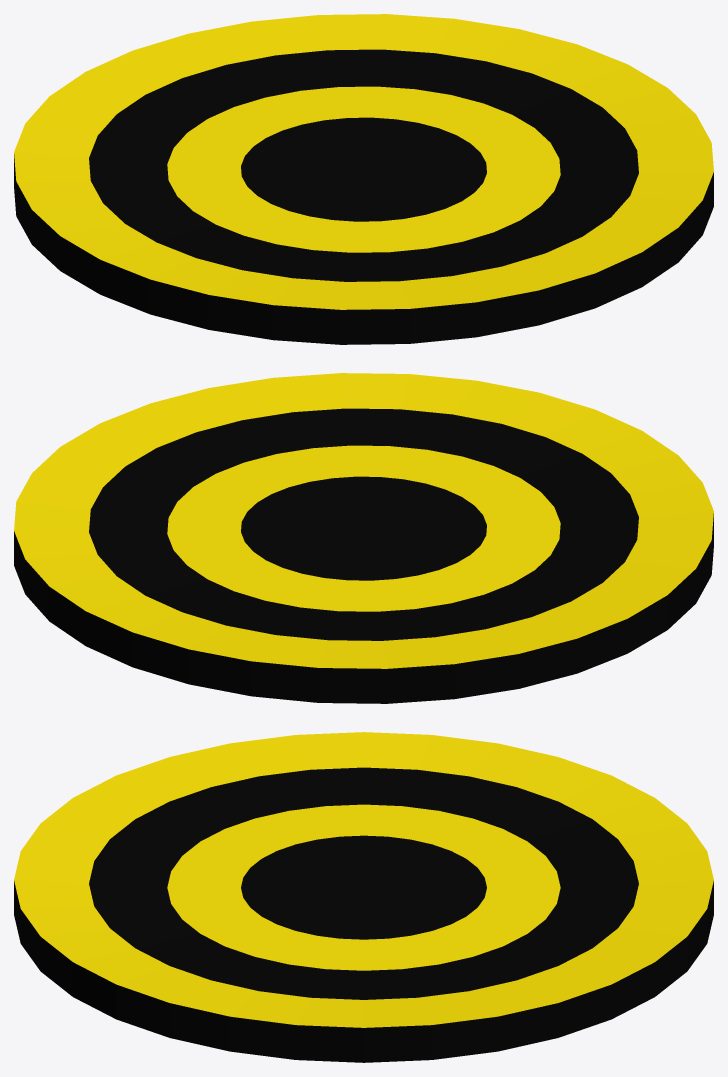
The model's file is trampoline.fbx.
3 views of the same model, one above another, from view 1: azimuth 30°, elevation 25°; view 2: azimuth 150°, elevation 25°; view 3: azimuth 270°, elevation 25° (orthographic).
Parts seen in each view (by area): view 1: Cylinder; view 2: Cylinder; view 3: Cylinder.
Boxes of the visible parts, x1,y1,x2,y2 form: Cylinder: (14, 14, 713, 344); Cylinder: (14, 373, 713, 703); Cylinder: (14, 732, 713, 1062).
Bounding box in the file's own units: 712 × 39.19 × 712.
Materials: 1 (1 with a texture image).
